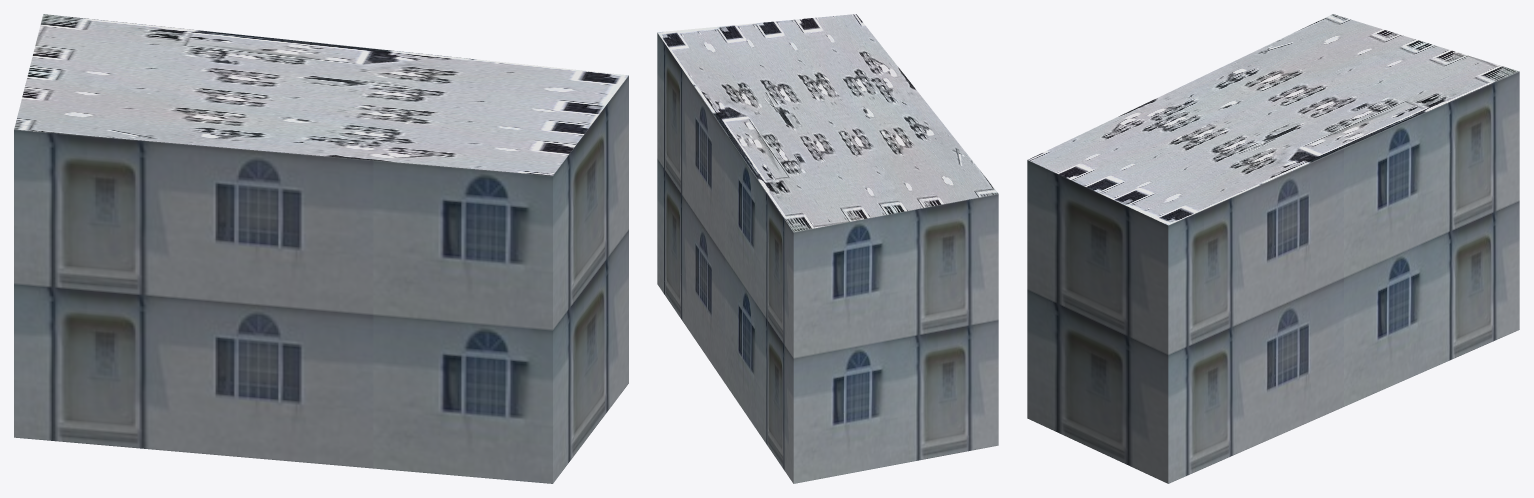
File: ResTex__861.fbx
3 views of the same model, side by side, from view 1: azimuth 30°, elevation 25°; view 2: azimuth 150°, elevation 25°; view 3: azimuth 270°, elevation 25° (orthographic). The views are drawn at different scales.
Visible parts, largest first — view 1: CityEngineMaterial_17_m, CityEngineMaterial_4_m; view 2: CityEngineMaterial_17_m, CityEngineMaterial_4_m; view 3: CityEngineMaterial_17_m, CityEngineMaterial_4_m.
Boxes of the visible parts, x1,y1,x2,y2 form: CityEngineMaterial_17_m: (14, 75, 628, 483); CityEngineMaterial_4_m: (14, 14, 628, 175); CityEngineMaterial_17_m: (657, 33, 998, 483); CityEngineMaterial_4_m: (657, 14, 998, 232); CityEngineMaterial_17_m: (1027, 71, 1519, 483); CityEngineMaterial_4_m: (1028, 14, 1518, 225).
Bounding box in the file's own units: 10.53 × 6 × 10.35.
2 materials, 2 textured.
